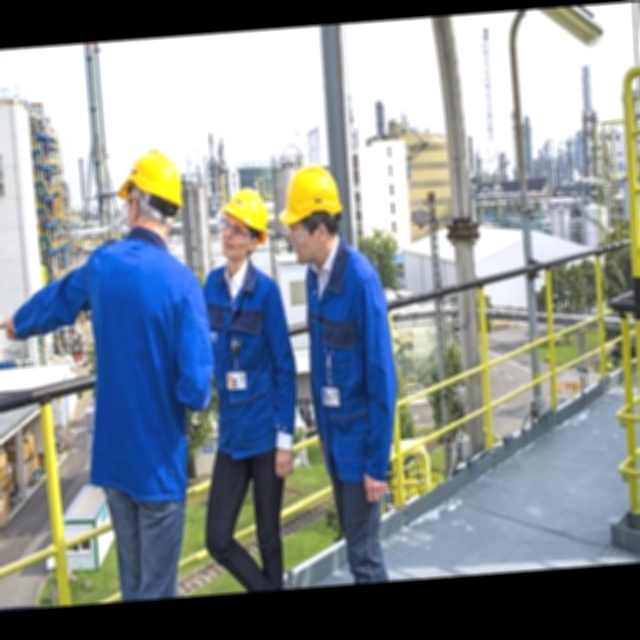Con_Casco: (277, 166, 346, 262), (213, 187, 271, 257)
Sin_Chaleco: (199, 264, 294, 459)
